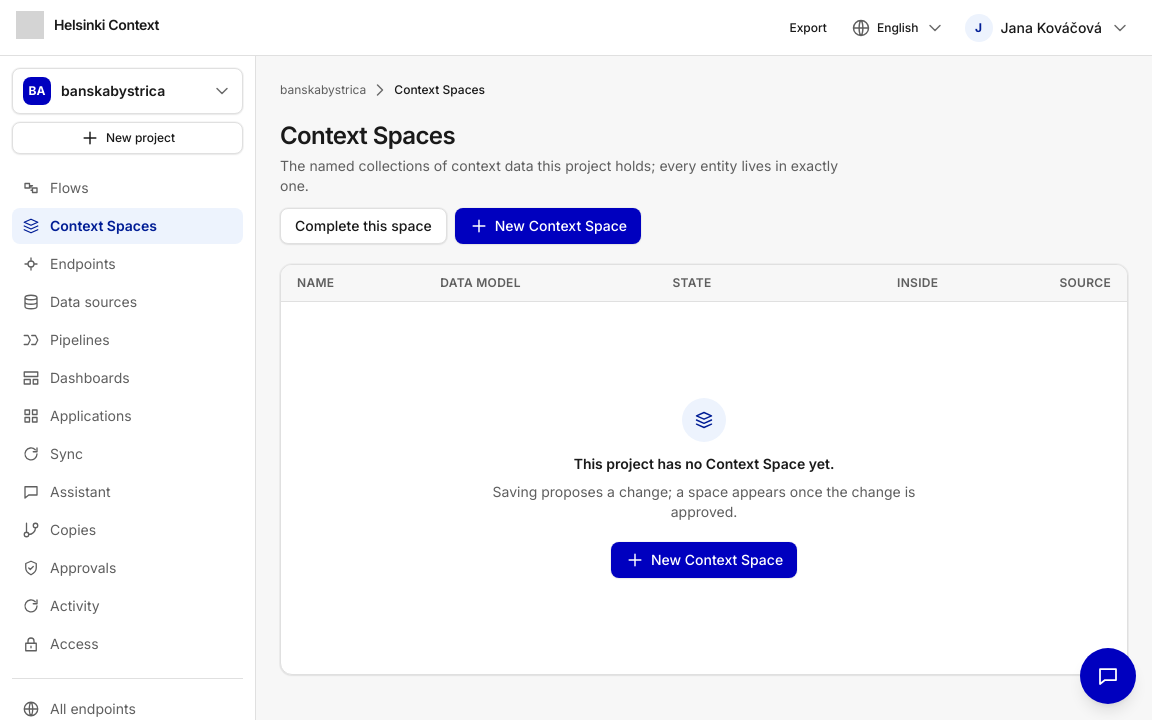
Test: runtime branding › offers only the languages the installation names
Click the button with aria-label "language" at x=898, y=28, box [841,12,954,44]
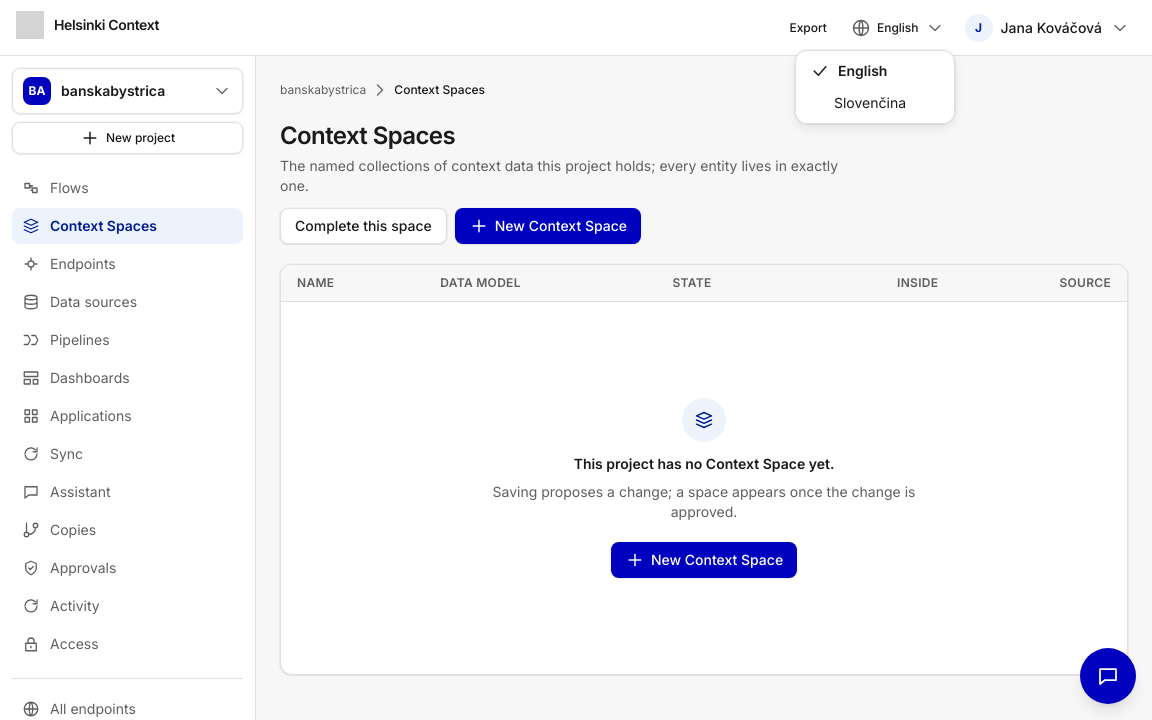
Check: the menu items read "English", "Slovenčina", in this order, box [810,61,887,81]; [834,94,906,111]
